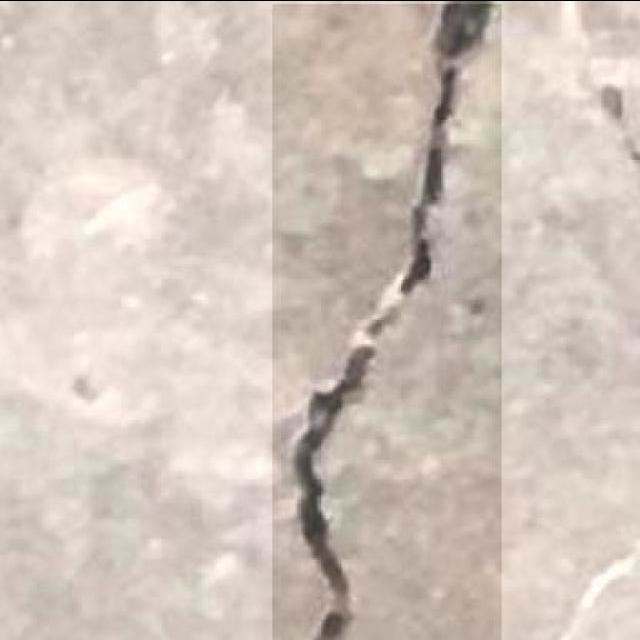SurfaceCrack: (270, 0, 496, 640)
